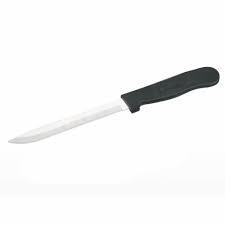Knife: (7, 65, 219, 144)
